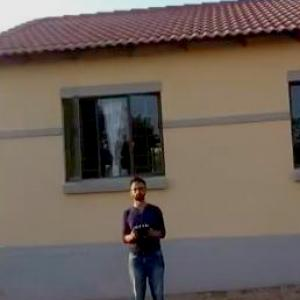follow: (119, 170, 173, 299)
